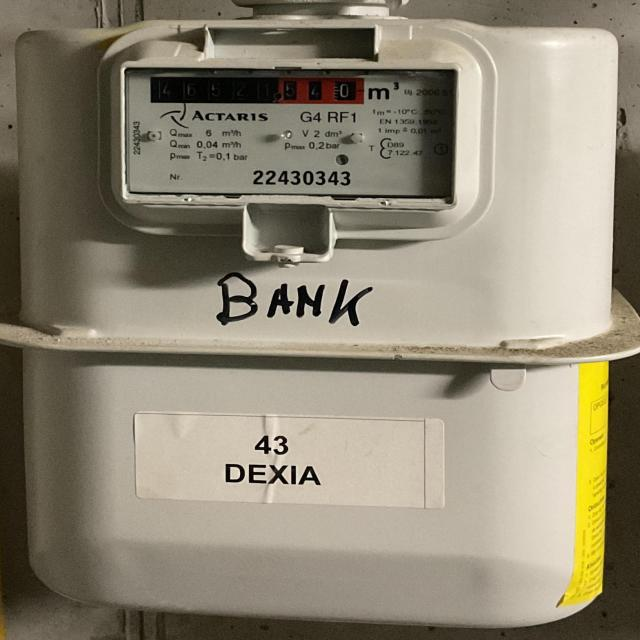gaz_meter: (122, 59, 455, 199)
indication: (150, 73, 366, 104)
